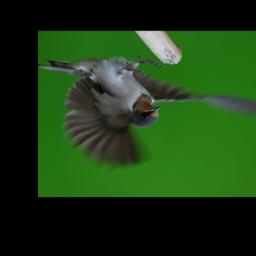Swallow: (42, 55, 256, 170)
